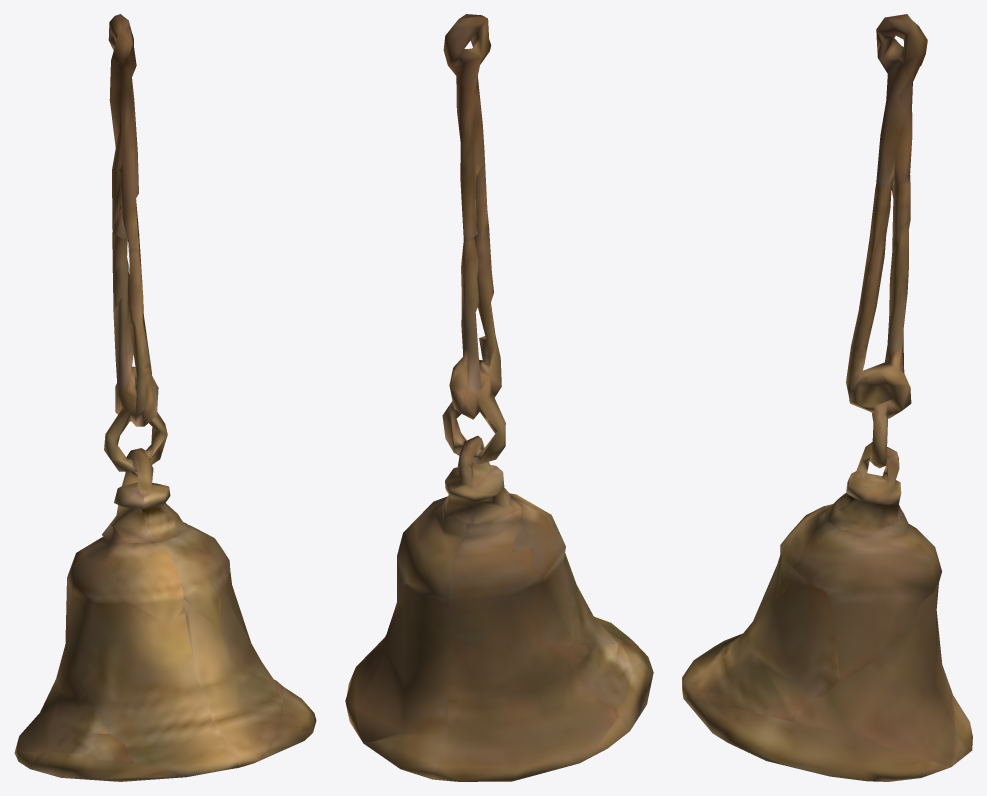
The model's file is belltower-bell.glb.
3 views of the same model, side by side, from view 1: azimuth 30°, elevation 25°; view 2: azimuth 150°, elevation 25°; view 3: azimuth 270°, elevation 25° (orthographic). The views are drawn at different scales.
Size of the model in its own units: 0.3544 by 0.9325 by 0.3406.
Materials: 1 (1 with a texture image).
